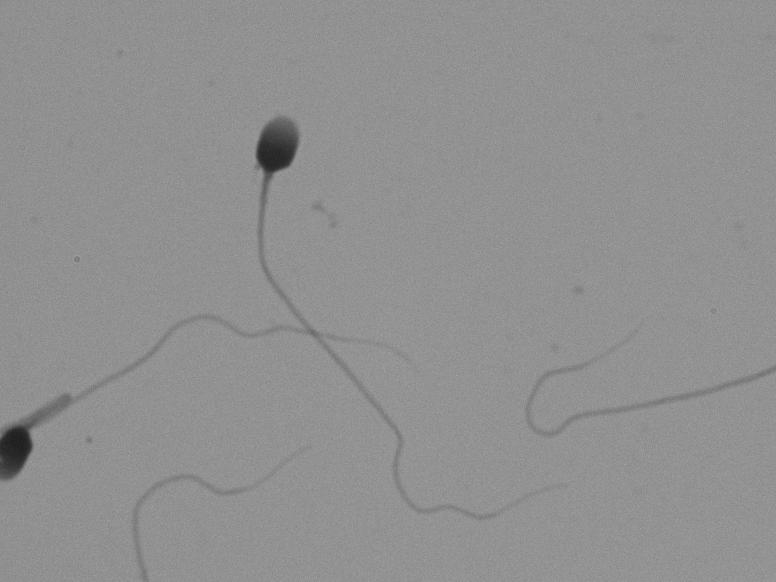Normal: (226, 78, 585, 545)
